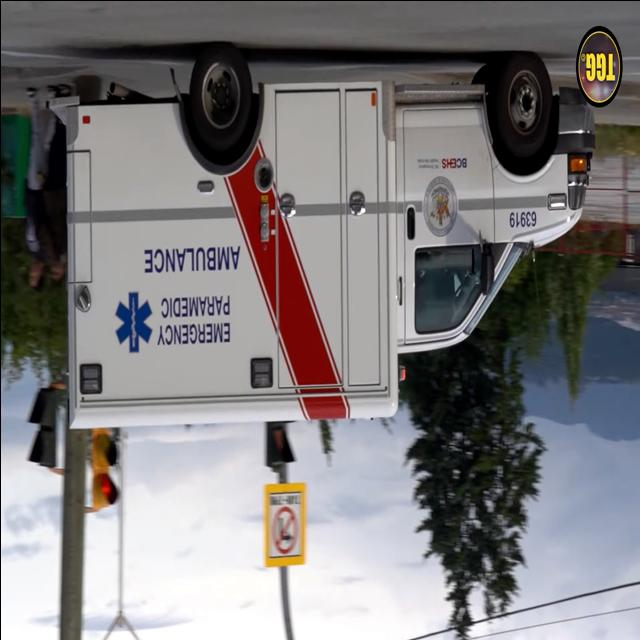emergency-vehicles: (58, 42, 610, 436)
